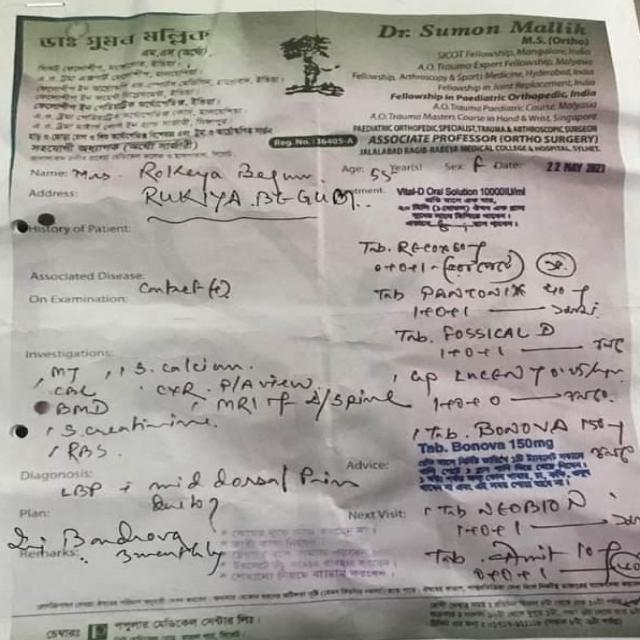Amit: (484, 545, 570, 570)
Bonova: (469, 416, 575, 441)
Fossical D: (435, 322, 561, 345)
Lucent: (449, 365, 546, 389)
Neobion: (475, 493, 595, 521)
Pantonix: (417, 280, 534, 302)
Recox: (392, 237, 456, 258)
